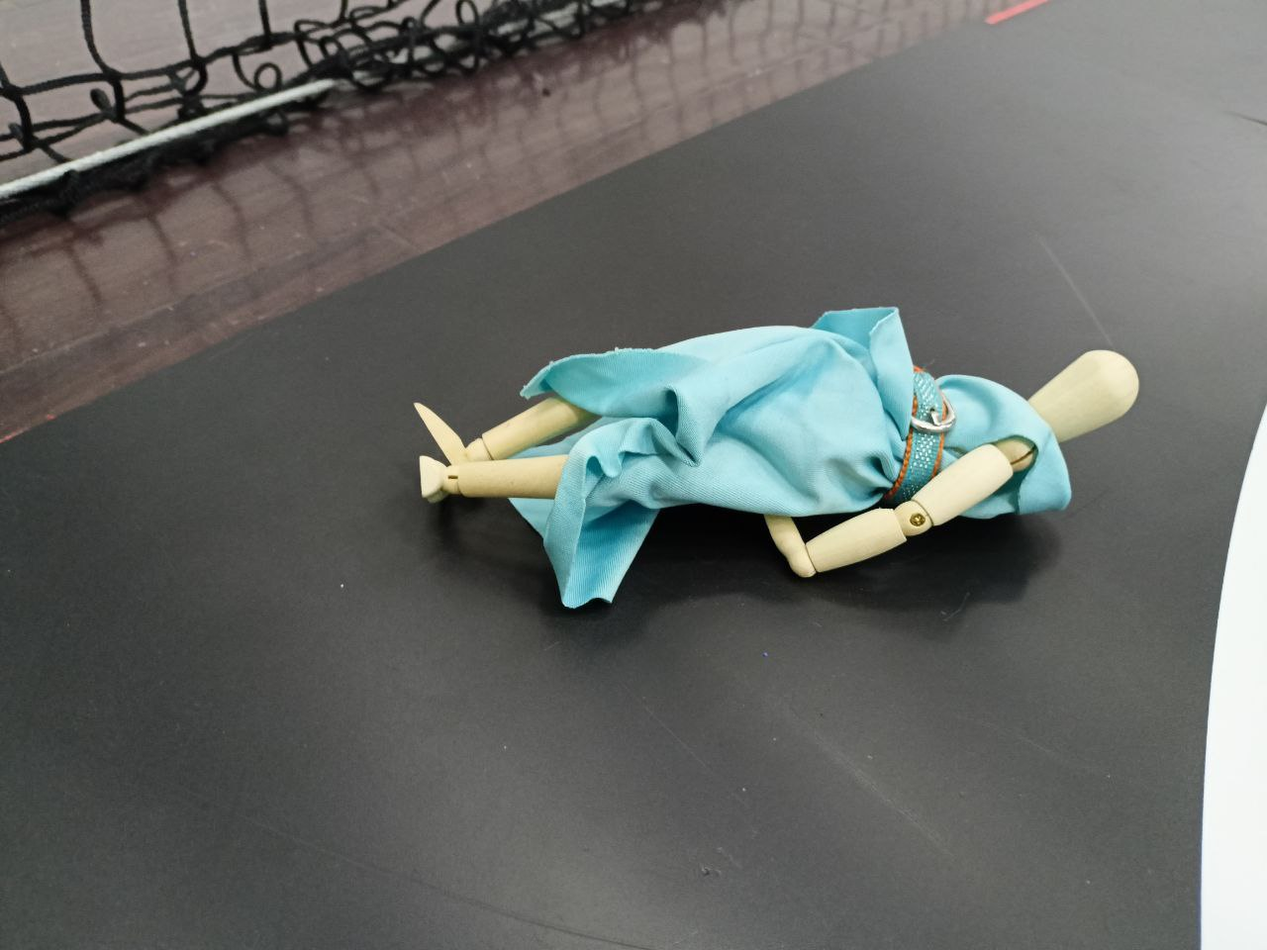Road works: (377, 282, 1145, 629)
